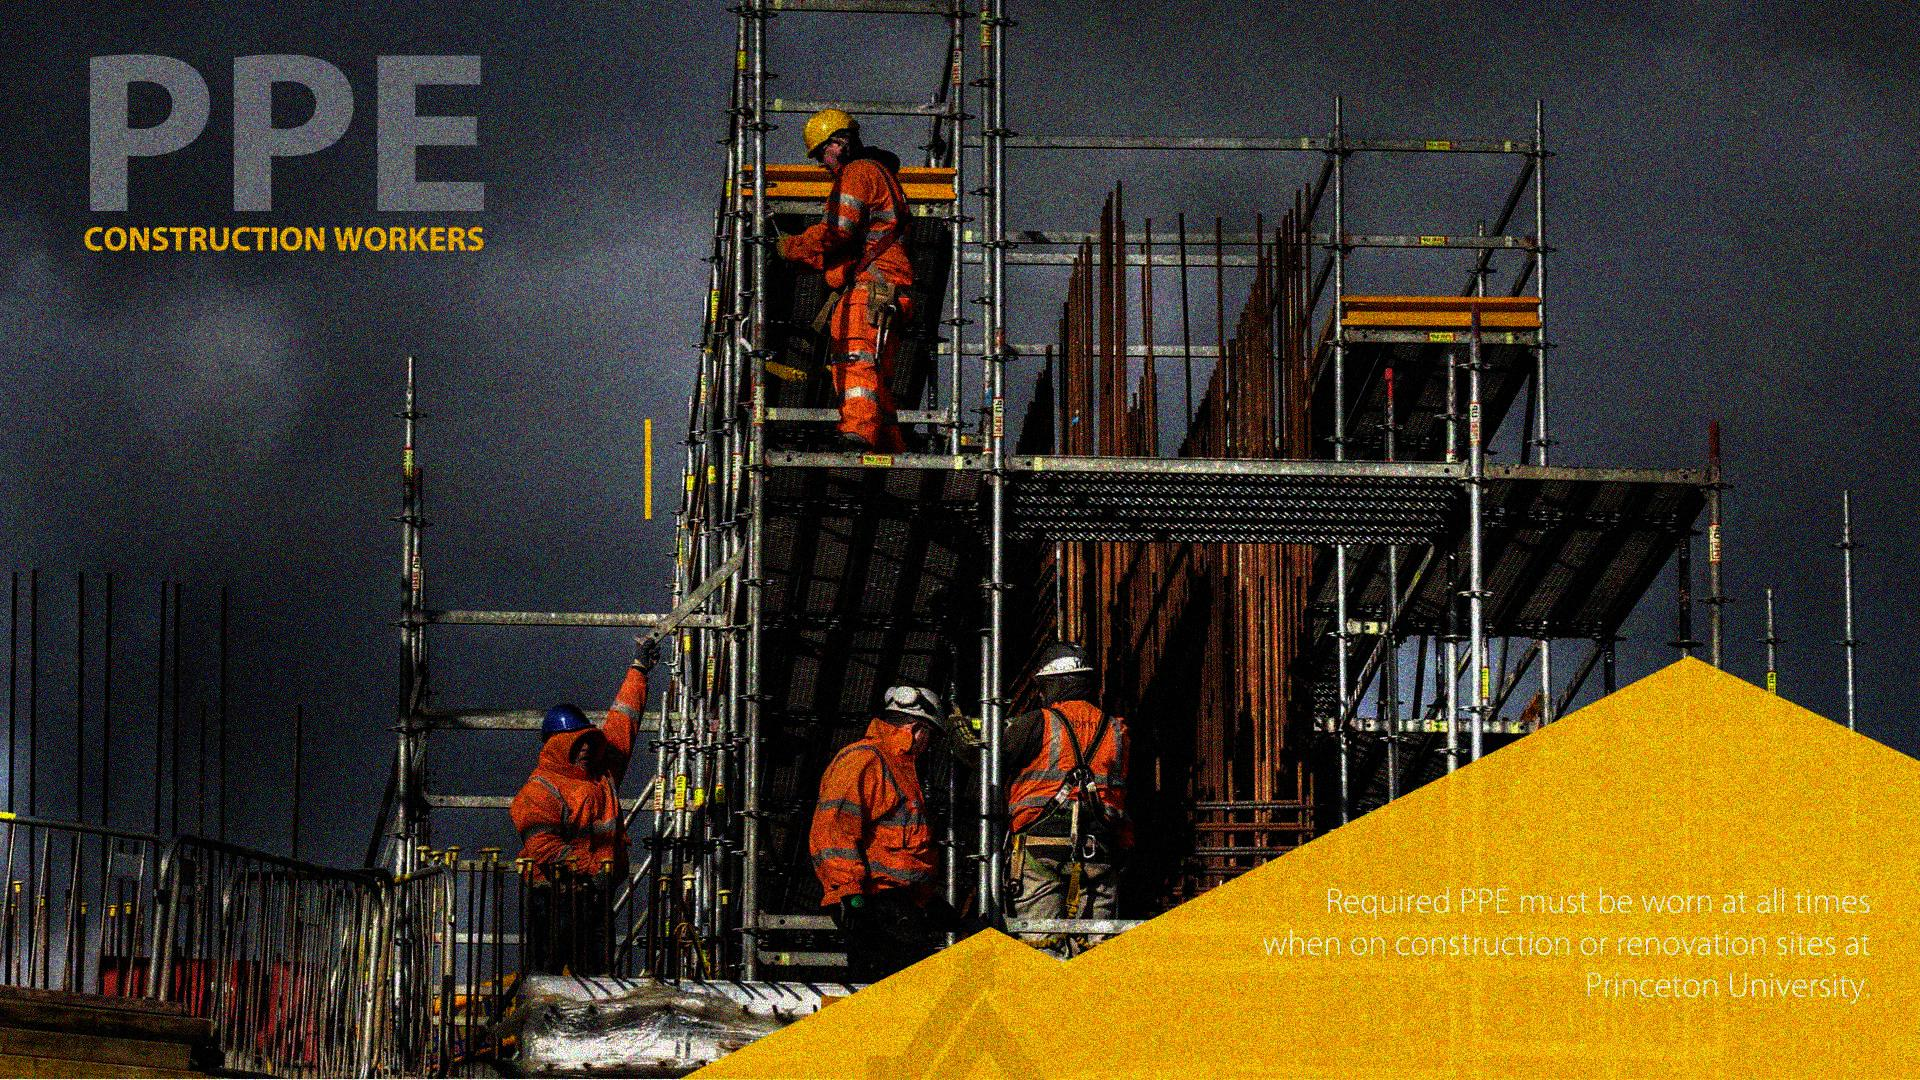helmet: (884, 683, 953, 760), (539, 702, 604, 778), (1031, 640, 1096, 709), (800, 108, 862, 173)
